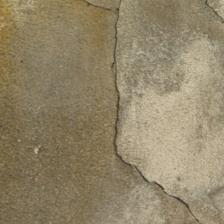Crack: (70, 10, 131, 121), (36, 0, 128, 19), (0, 69, 117, 83)
